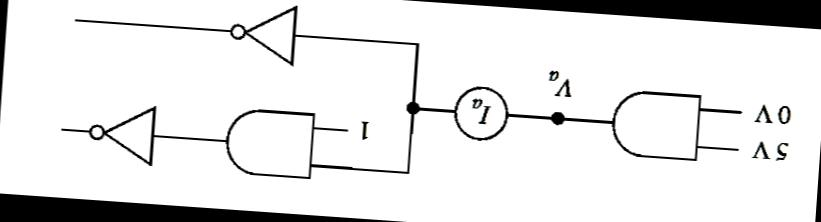and: (600, 80, 710, 167), (214, 98, 322, 182)
not: (78, 96, 162, 174), (219, 0, 303, 72)
